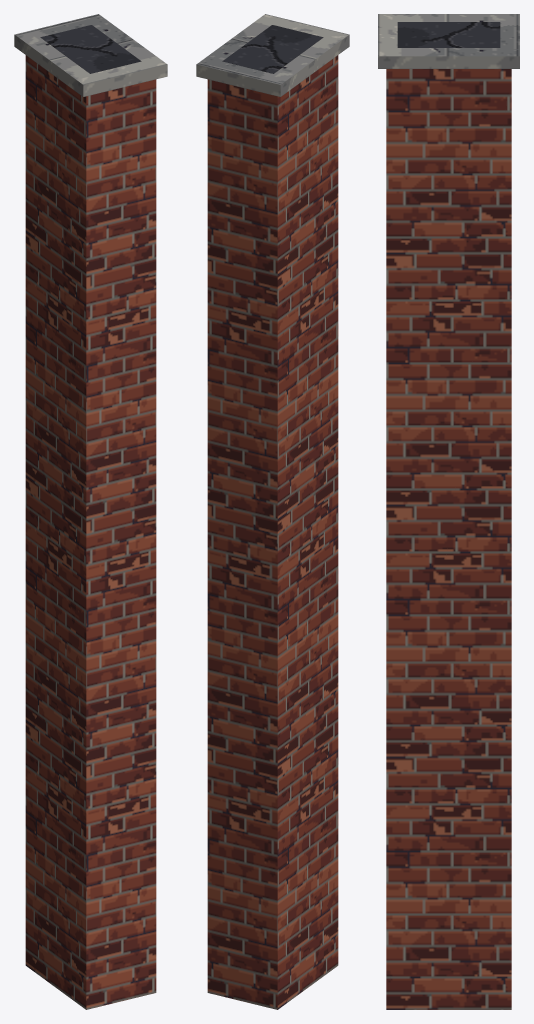
File: RES_Ext_Chimney_Brick.obj
3 renders of one model, left to right at view 1: azimuth 30°, elevation 25°; view 2: azimuth 150°, elevation 25°; view 3: azimuth 270°, elevation 25°, orthographic. The views are drawn at different scales.
Parts seen in each view (by area): view 1: RES_Ext_Chimney_Brick_Mesh_M_Arch_BrickRed, RES_Ext_Chimney_Brick_Mesh_M_Arch_ConcreteFoundation, RES_Ext_Chimney_Brick_Mesh_M_Road_RoadPatch; view 2: RES_Ext_Chimney_Brick_Mesh_M_Arch_BrickRed, RES_Ext_Chimney_Brick_Mesh_M_Arch_ConcreteFoundation, RES_Ext_Chimney_Brick_Mesh_M_Road_RoadPatch; view 3: RES_Ext_Chimney_Brick_Mesh_M_Arch_BrickRed, RES_Ext_Chimney_Brick_Mesh_M_Arch_ConcreteFoundation, RES_Ext_Chimney_Brick_Mesh_M_Road_RoadPatch.
Part boxes in pixels (x1=…): RES_Ext_Chimney_Brick_Mesh_M_Arch_BrickRed: x1=25, y1=55, x2=156, y2=1009; RES_Ext_Chimney_Brick_Mesh_M_Arch_ConcreteFoundation: x1=14, y1=14, x2=167, y2=96; RES_Ext_Chimney_Brick_Mesh_M_Road_RoadPatch: x1=40, y1=25, x2=141, y2=73; RES_Ext_Chimney_Brick_Mesh_M_Arch_BrickRed: x1=207, y1=55, x2=338, y2=1009; RES_Ext_Chimney_Brick_Mesh_M_Arch_ConcreteFoundation: x1=196, y1=14, x2=349, y2=96; RES_Ext_Chimney_Brick_Mesh_M_Road_RoadPatch: x1=222, y1=25, x2=323, y2=73; RES_Ext_Chimney_Brick_Mesh_M_Arch_BrickRed: x1=386, y1=69, x2=511, y2=1009; RES_Ext_Chimney_Brick_Mesh_M_Arch_ConcreteFoundation: x1=378, y1=14, x2=519, y2=68; RES_Ext_Chimney_Brick_Mesh_M_Road_RoadPatch: x1=397, y1=22, x2=500, y2=47.
Bounding box in the file's own units: 0.72 × 7.6 × 1.02.
Materials: 3 (3 with a texture image).
